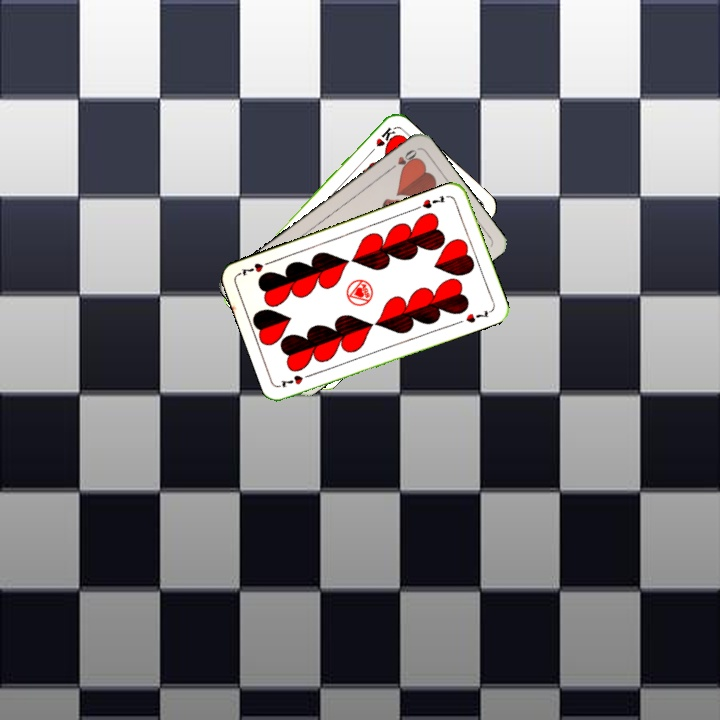H7: (277, 369, 315, 390), (418, 192, 448, 211)
HK: (365, 123, 398, 158)
HO: (384, 145, 420, 174)
